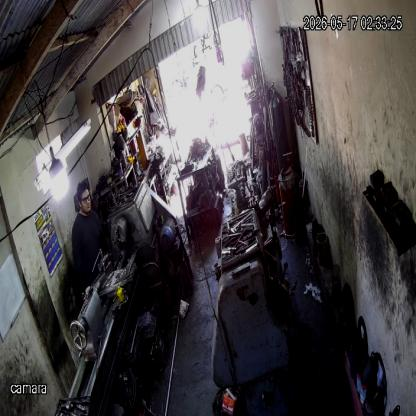lentes: (80, 195, 91, 208)
